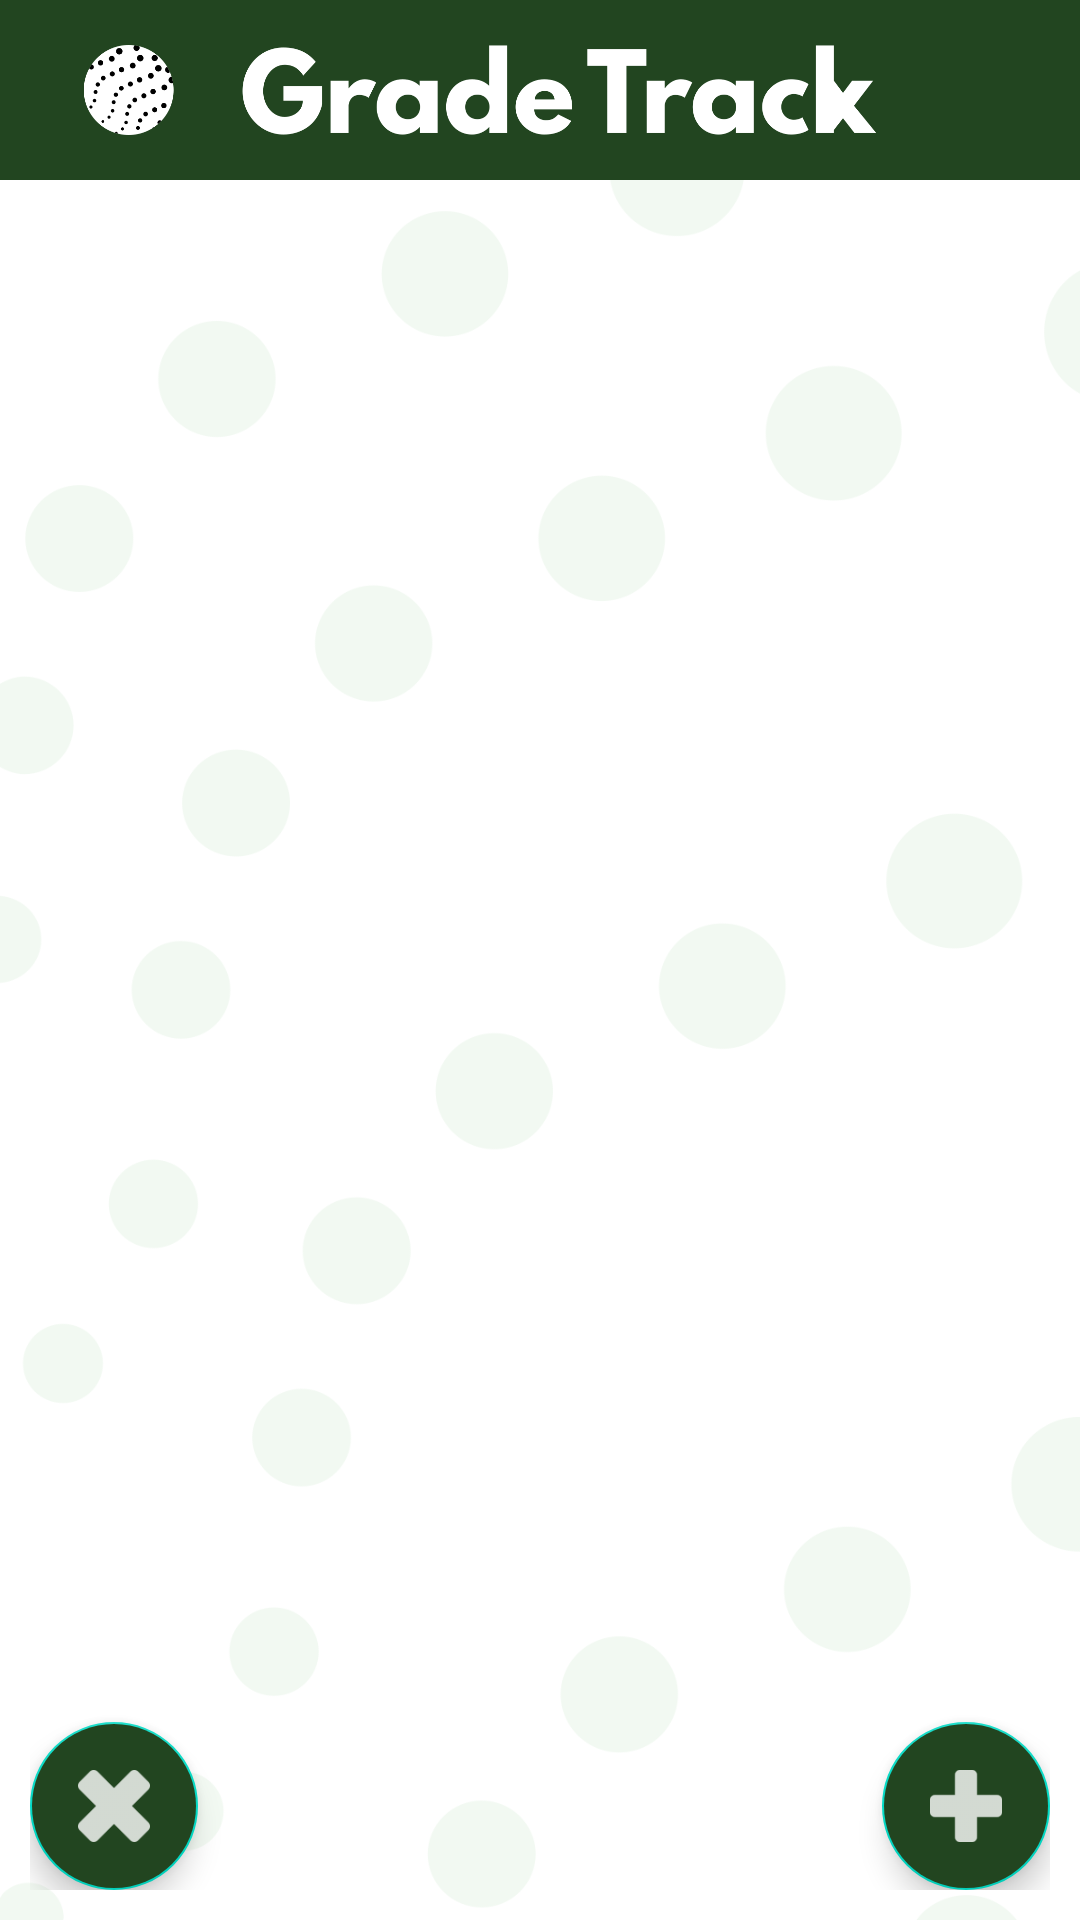

Icon click points for this 1080w x 1920h phone screenshot, format point (x, y):
cancel: point (114, 1806)
plus: point (966, 1806)
